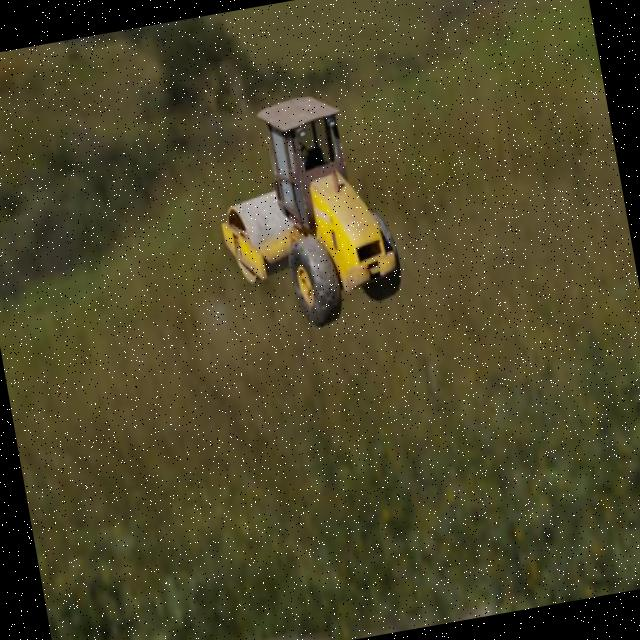Roller: (201, 85, 408, 341)
